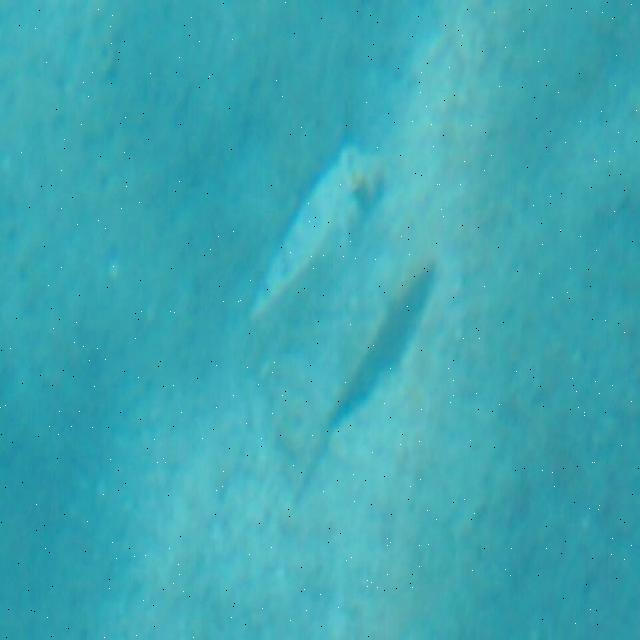Balik: (251, 146, 381, 319)
